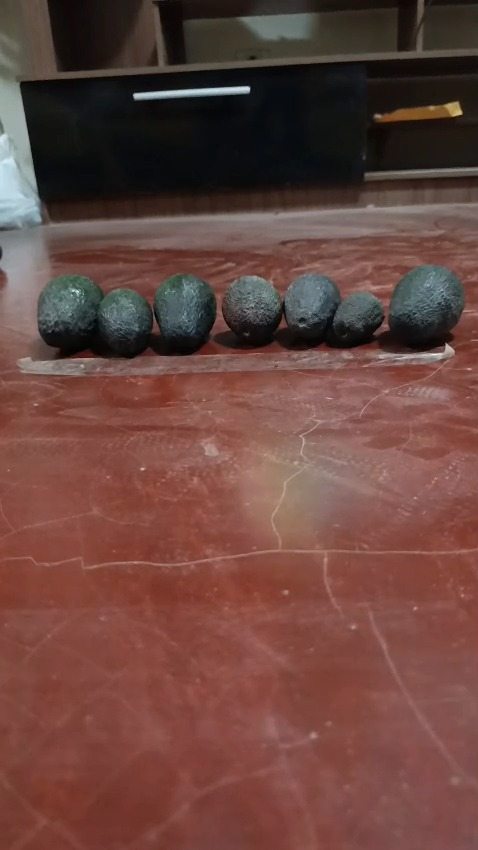Primera: (387, 264, 463, 345), (37, 273, 103, 351), (152, 272, 215, 350)
Segunda: (222, 274, 282, 346), (282, 272, 340, 342), (96, 287, 153, 356)
Tercera: (328, 291, 384, 347)
